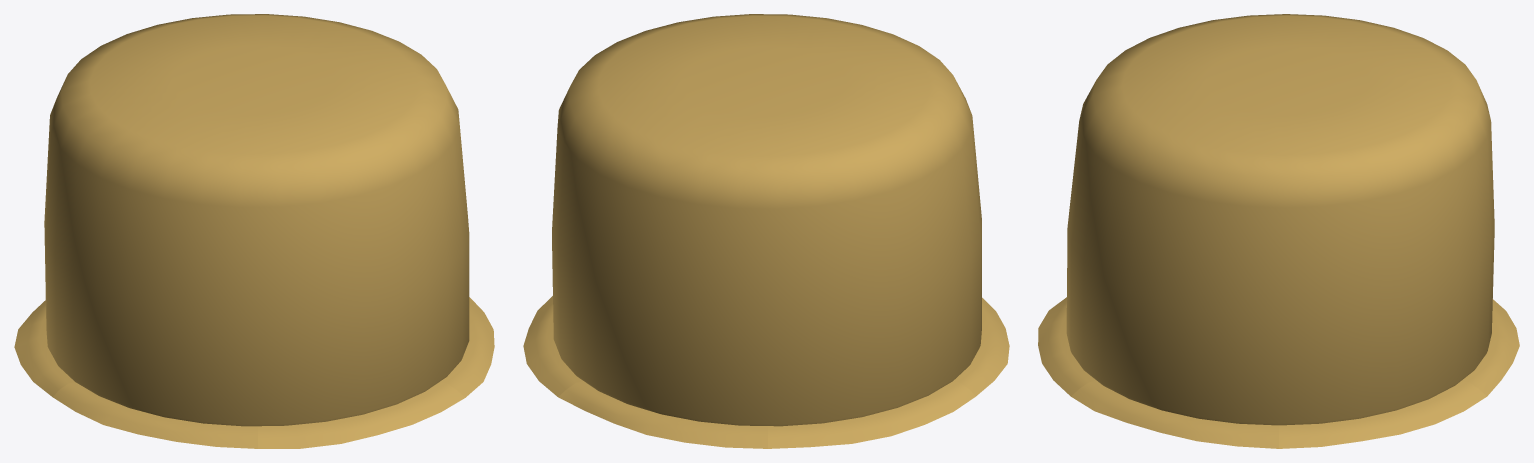
File: hay_bale_round_b.glb
3 views of the same model, side by side, from view 1: azimuth 30°, elevation 25°; view 2: azimuth 150°, elevation 25°; view 3: azimuth 270°, elevation 25° (orthographic).
Visible parts, largest first — view 1: hay_bale_round_b_lod0; view 2: hay_bale_round_b_lod0; view 3: hay_bale_round_b_lod0.
Boxes of the visible parts, x1,y1,x2,y2 form: hay_bale_round_b_lod0: (14, 14, 494, 448); hay_bale_round_b_lod0: (523, 14, 1009, 448); hay_bale_round_b_lod0: (1038, 14, 1519, 448).
Size of what is drawn, in the model's own units: 1.76 by 1.13 by 1.76.
